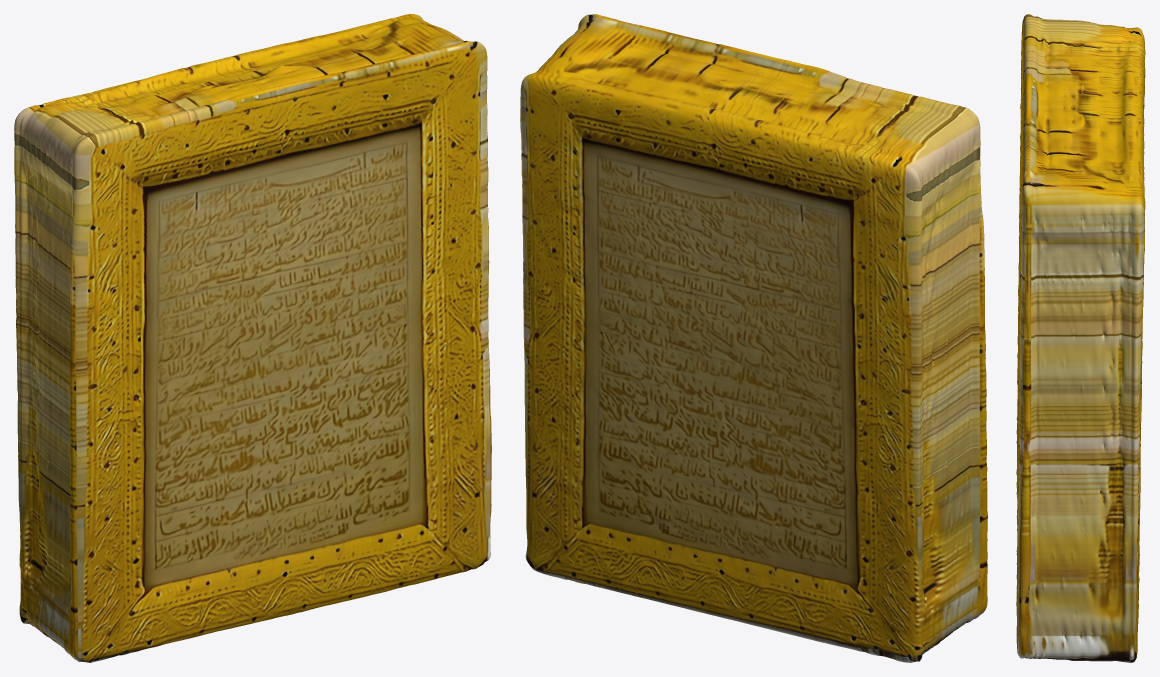
Rendered from kfl-2186.glb.
3 renders of one model, left to right at view 1: azimuth 30°, elevation 25°; view 2: azimuth 150°, elevation 25°; view 3: azimuth 270°, elevation 25°, orthographic. The views are drawn at different scales.
Parts seen in each view (by area): view 1: kfl-2186; view 2: kfl-2186; view 3: kfl-2186.
Part boxes in pixels (left/top/right/bottom): kfl-2186: left=14, top=14, right=491, bottom=662; kfl-2186: left=520, top=14, right=987, bottom=662; kfl-2186: left=1016, top=14, right=1145, bottom=662.
Bounding box in the file's own units: 0.8164 × 0.9947 × 0.24.
1 material, 1 textured.
